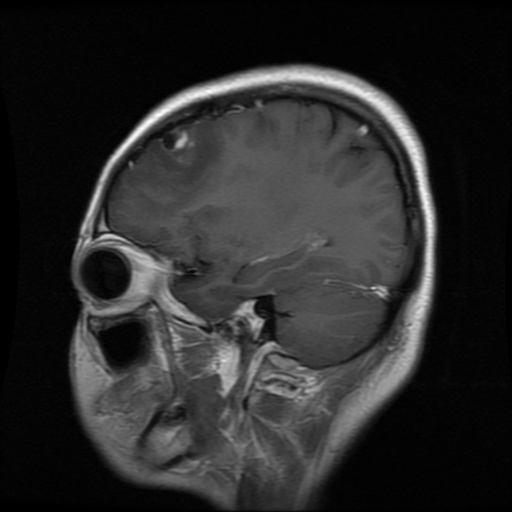glioma: (146, 120, 220, 187)
